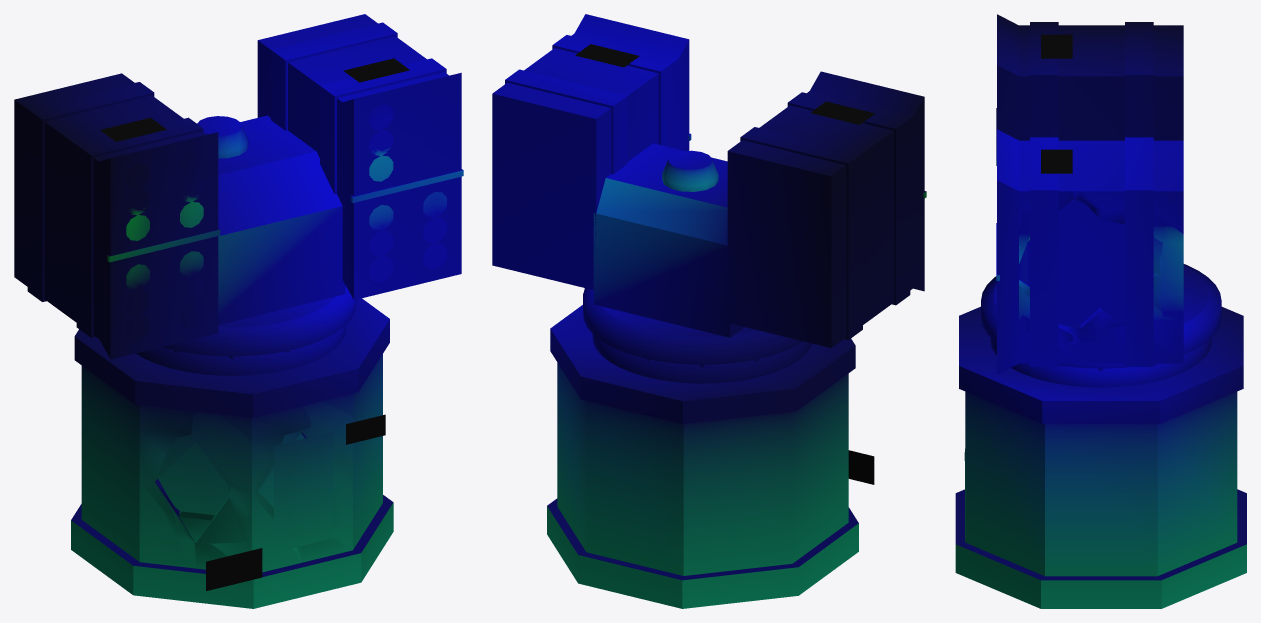
File: srmturret_damaged.glb
3 renders of one model, left to right at view 1: azimuth 30°, elevation 25°; view 2: azimuth 150°, elevation 25°; view 3: azimuth 270°, elevation 25°, orthographic. The views are drawn at different scales.
Parts seen in each view (by area): view 1: lod0_Gun, lod0_Base, lod0_Turret, lod1_Base, lod1_Gun, lod1_Turret; view 2: lod0_Gun, lod0_Base, lod0_Turret, lod1_Turret; view 3: lod0_Base, lod0_Gun, lod1_Gun, lod0_Turret, lod1_Turret.
Boxes of the visible parts, bbox=[...] form: lod0_Gun: bbox=[14, 14, 463, 359]; lod0_Base: bbox=[71, 298, 393, 608]; lod0_Turret: bbox=[162, 115, 356, 356]; lod1_Base: bbox=[139, 394, 352, 569]; lod1_Gun: bbox=[127, 105, 445, 340]; lod1_Turret: bbox=[188, 290, 354, 356]; lod0_Gun: bbox=[492, 14, 926, 347]; lod0_Base: bbox=[547, 305, 874, 608]; lod0_Turret: bbox=[583, 143, 803, 364]; lod1_Turret: bbox=[584, 288, 780, 364]; lod0_Base: bbox=[955, 306, 1246, 608]; lod0_Gun: bbox=[996, 14, 1183, 374]; lod1_Gun: bbox=[1019, 191, 1183, 363]; lod0_Turret: bbox=[981, 243, 1221, 368]; lod1_Turret: bbox=[983, 266, 1219, 365].
Bounding box in the file's own units: 6.28 × 7.85 × 4.61.
